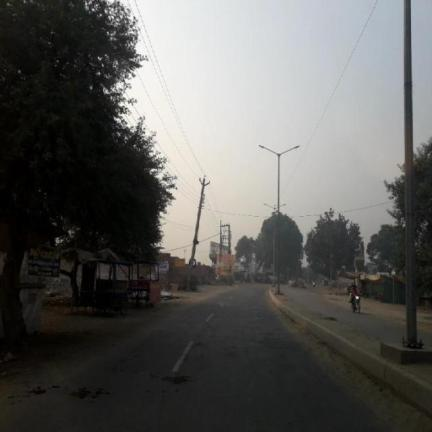Road: (0, 285, 394, 431)
